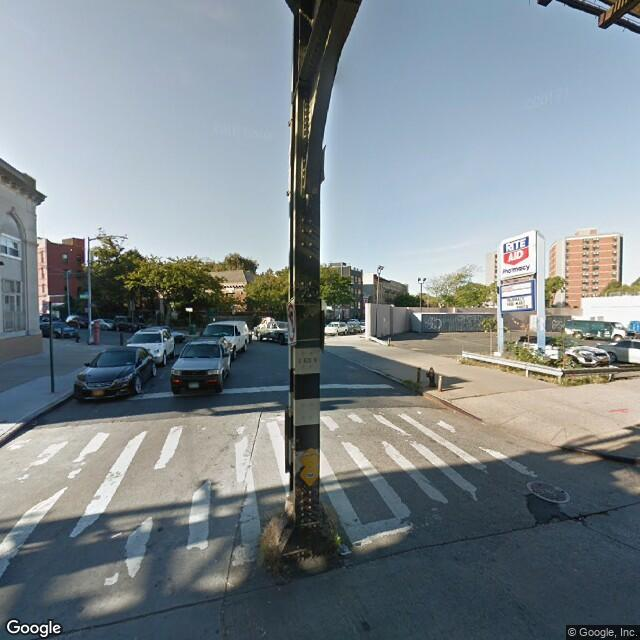litter: (335, 532, 355, 558)
